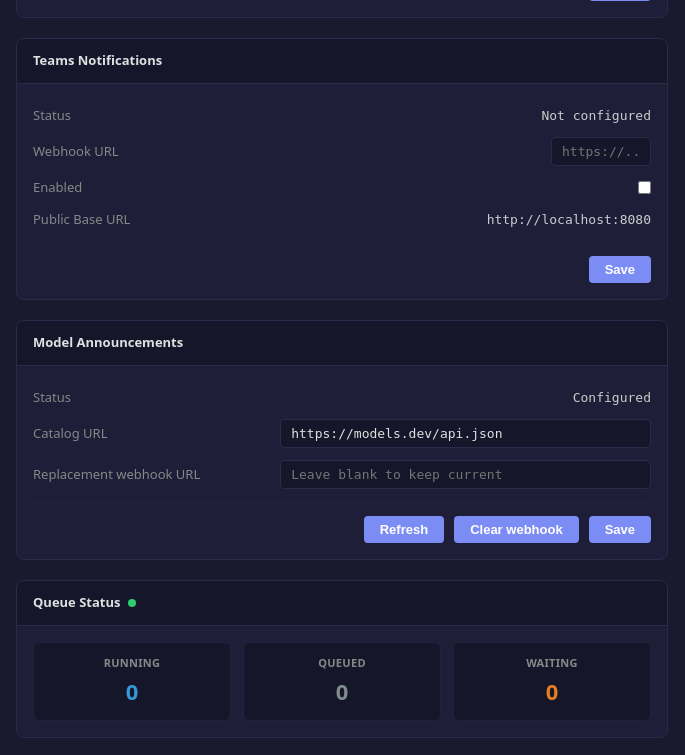
it: SettingsModelAnnouncements edits, preserves and clears the separate model webhook
(page scrolled)
Expected: the text "Configured" is shown, [573,388,651,407]
Expected: the password field labelled "Replacement webhook URL" is empty, [280,460,651,489]
Replace the text in the field labelled "Catalog URL" with "https://catalog.test/custom.json" at (466, 434), box [280,419,651,448]
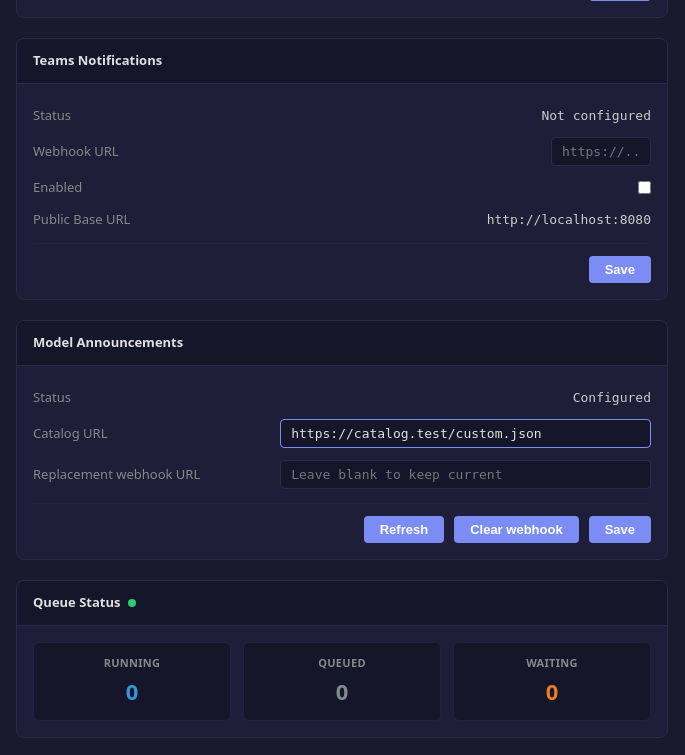
Click the 3rd button "Save" at (620, 530), box [589,516,651,543]
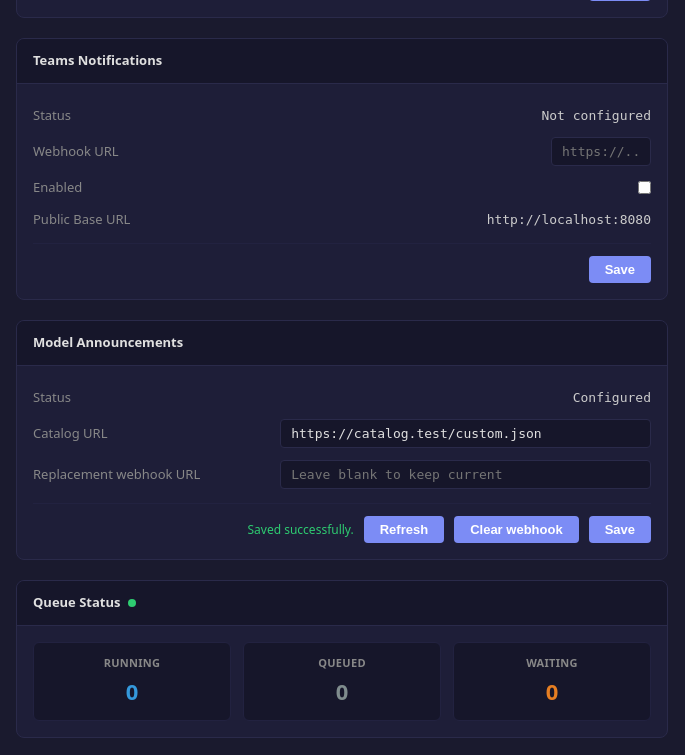
Type "https://teams.example.test/hooks/replacement" into the password field labelled "Replacement webhook URL" at (466, 474), box [280,460,651,489]
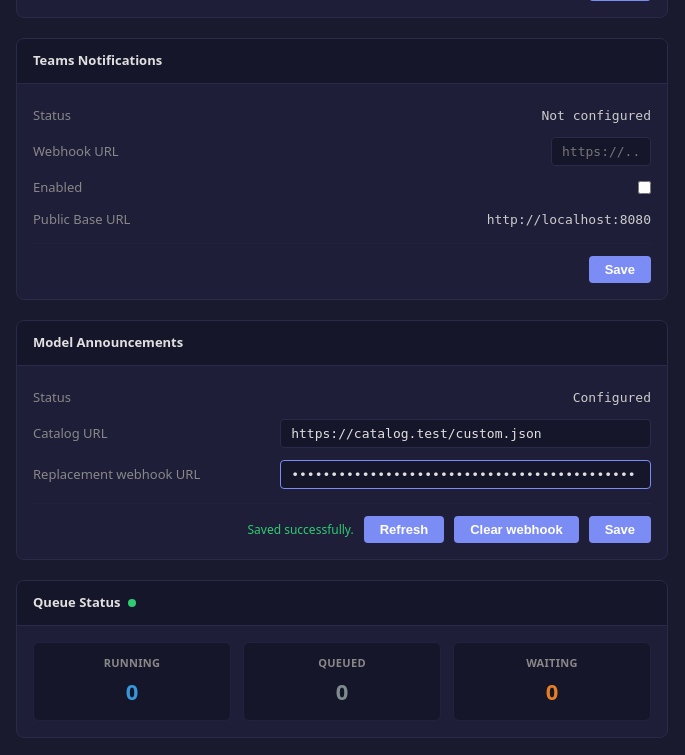
Click the button "Save" in the row of "Saved successfully." at (620, 530), box [589,516,651,543]
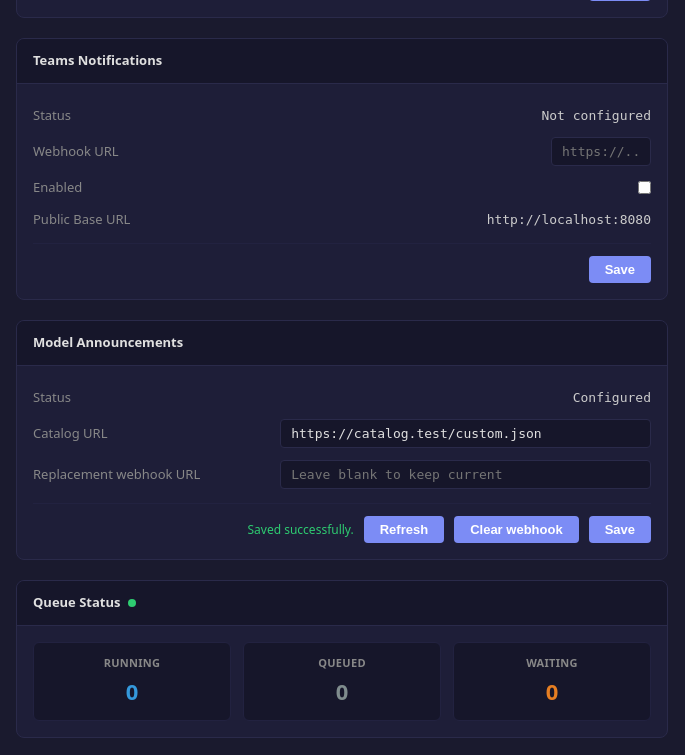
Expected: the password field labelled "Replacement webhook URL" is empty, [280,460,651,489]
Click the button "Refresh" at (404, 530), box [364,516,444,543]
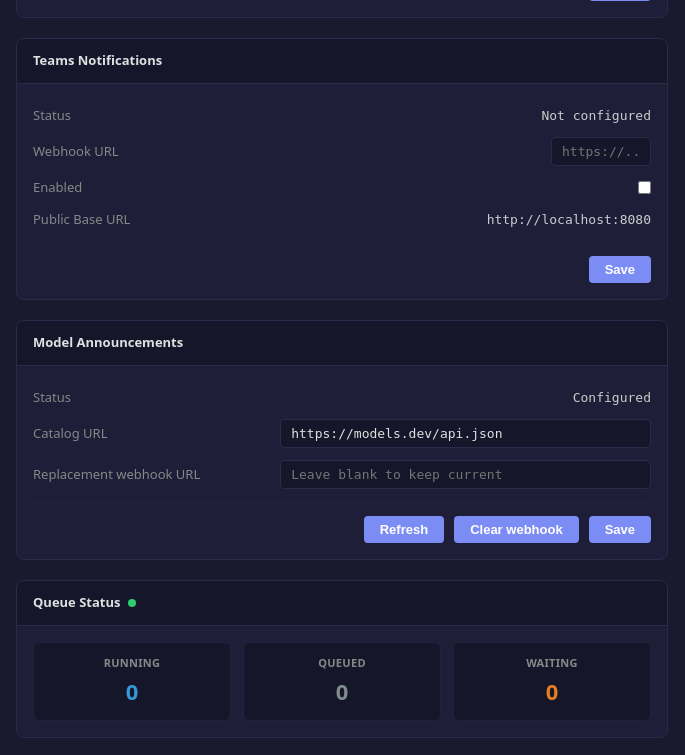
Expected: the password field labelled "Replacement webhook URL" is empty, [280,460,651,489]
Click the button "Clear webhook" at (516, 530), box [454,516,579,543]
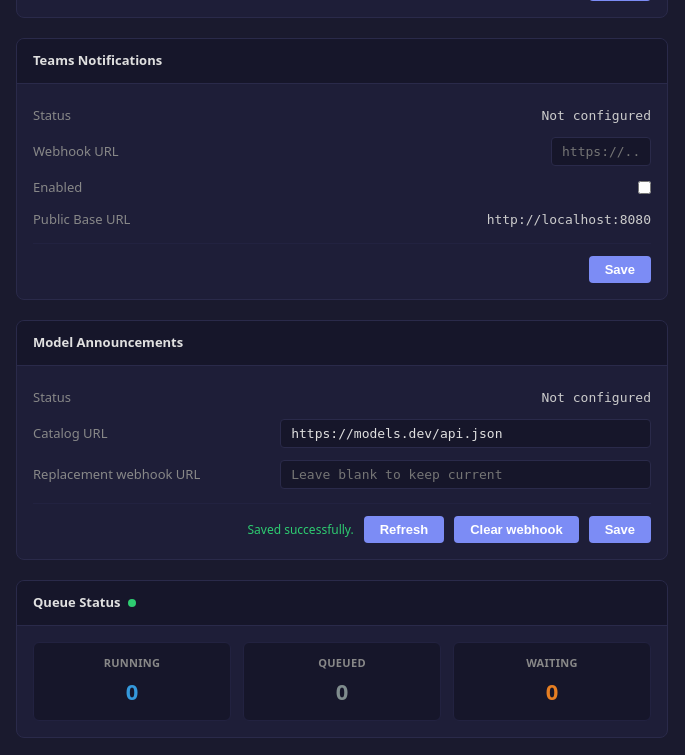
Expected: the 2nd text "Not configured" is shown, [541,388,651,407]
